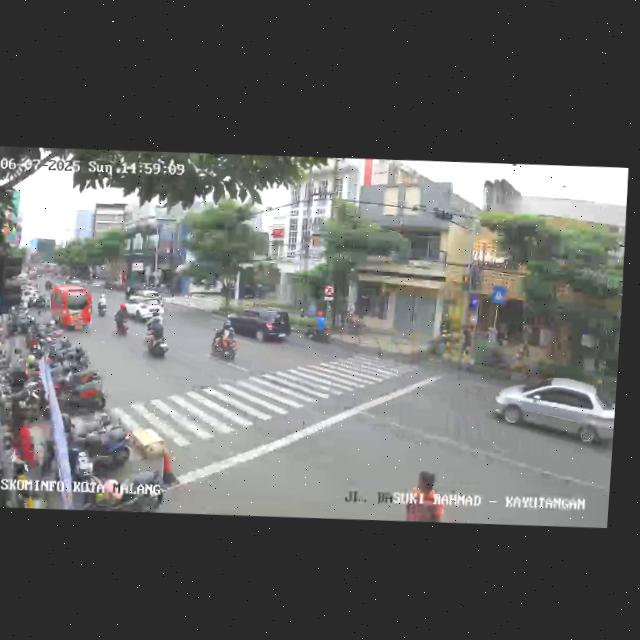car: (493, 372, 617, 453), (226, 305, 293, 345), (47, 284, 94, 334), (120, 288, 165, 320)
motorcycle: (142, 315, 172, 361), (208, 319, 240, 362), (302, 309, 333, 345), (112, 302, 132, 337), (96, 292, 107, 316)
person: (400, 466, 448, 522)
